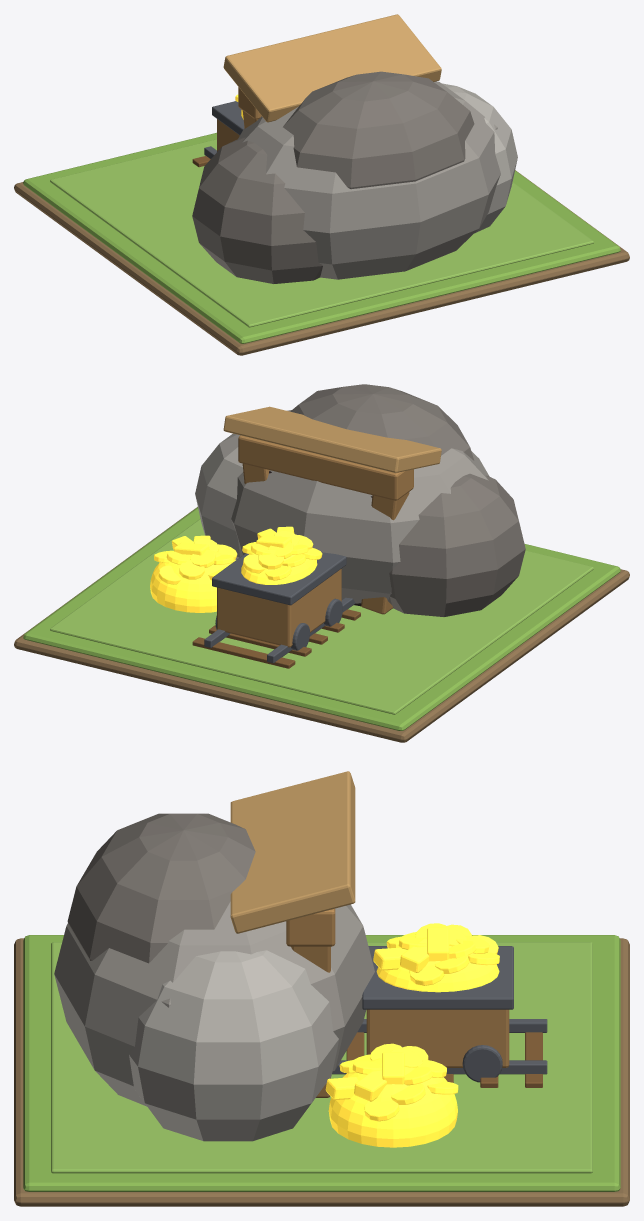
The model's file is gold_mine_lv1.glb.
The picture shows the model from 3 angles, top to bottom: view 1: azimuth 30°, elevation 25°; view 2: azimuth 150°, elevation 25°; view 3: azimuth 270°, elevation 25°; orthographic projection. The views are drawn at different scales.
Visible parts, largest first — view 1: Base_Inner, MineRock_0, MineRock_3, Base_Grass, MineRock_1, PortalRoof, Base_Dirt, MineRock_2, MinecartRim; view 2: Base_Inner, MineRock_0, MineRock_1, Base_Grass, Base_Dirt, MineRock_3, PortalRoof, PortalHeader, MinecartBody, MineRock_2, MinecartRim, GoldMoundBase.001 (+3 smaller); view 3: Base_Inner, MineRock_2, Base_Grass, MineRock_0, MineRock_3, PortalRoof, Base_Dirt, MinecartBody, GoldMoundBase.001, MinecartRim, GoldMoundBase, PortalHeader (+11 smaller).
Part boxes in pixels (box(x1,y1,x2,y2)): Base_Inner: box(50, 139, 593, 327); MineRock_0: box(238, 81, 500, 279); MineRock_3: box(283, 71, 474, 189); Base_Grass: box(23, 132, 620, 343); MineRock_1: box(192, 137, 322, 283); PortalRoof: box(223, 14, 441, 122); Base_Dirt: box(14, 170, 629, 355); MineRock_2: box(442, 83, 517, 232); MinecartRim: box(212, 101, 244, 135); Base_Inner: box(50, 518, 593, 714); MineRock_0: box(231, 410, 489, 605); MineRock_1: box(389, 473, 525, 616); Base_Grass: box(23, 507, 620, 730); Base_Dirt: box(14, 507, 629, 742); MineRock_3: box(290, 384, 474, 460); PortalRoof: box(223, 406, 441, 472); PortalHeader: box(238, 435, 413, 500); MinecartBody: box(217, 569, 341, 647); MineRock_2: box(195, 433, 243, 559); MinecartRim: box(212, 552, 346, 605); GoldMoundBase.001: box(150, 550, 233, 612); Base_Inner: box(51, 942, 592, 1173); MineRock_2: box(129, 950, 338, 1141); Base_Grass: box(23, 935, 620, 1191); MineRock_0: box(54, 901, 374, 1106); MineRock_3: box(67, 813, 255, 963); PortalRoof: box(230, 771, 355, 933); Base_Dirt: box(14, 938, 629, 1206); MinecartBody: box(366, 1009, 509, 1067); GoldMoundBase.001: box(328, 1058, 457, 1147); MinecartRim: box(362, 946, 513, 1009); GoldMoundBase: box(376, 937, 499, 992); PortalHeader: box(286, 908, 335, 946).
Size of the model in its own units: 2.76 by 1.34 by 2.76.
